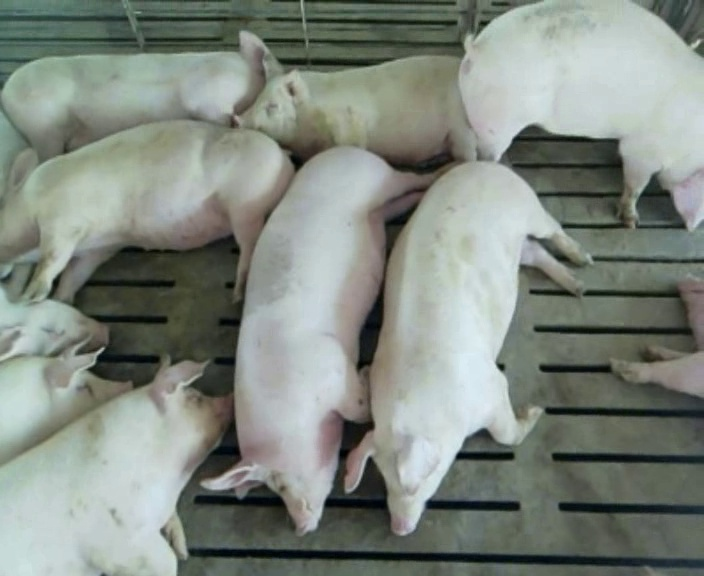pig: (345, 162, 591, 534), (202, 147, 434, 534), (459, 3, 703, 229), (0, 120, 292, 301), (0, 359, 232, 574), (2, 31, 268, 160), (239, 49, 476, 164), (0, 337, 131, 464), (610, 276, 703, 397)
